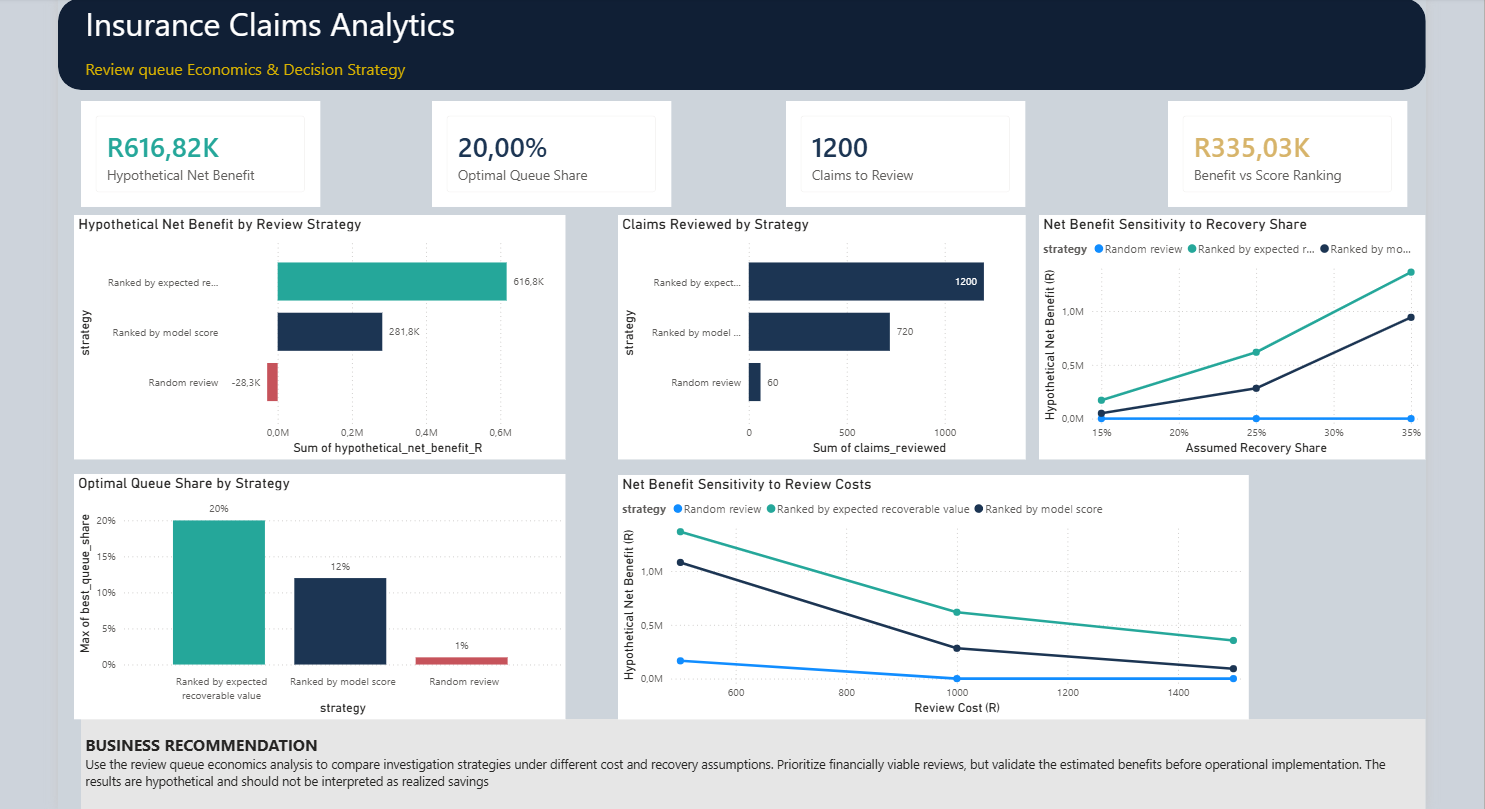

Layout of this report page (visuals, bound fields, positions):
{"tool":"powerbi","page":{"name":"Duplicate of Model Performance & Validation.","canvas":[1600,950],"ordinal":3},"visuals":[{"type":"group","id":"g1","title":"Group 1","box":[26.7,843.8,1573.3,105.8],"z":0},{"type":"shape","box":[26.7,843.8,1573.3,105.8],"z":0,"group":"g1"},{"type":"group","id":"g2","title":"Group 2","box":[0,0,1600.5,108.2],"z":1000},{"type":"shape","box":[0,0,1600.5,107.6],"z":1000,"group":"g2"},{"type":"textbox","box":[26.9,0,531.2,62],"z":2000,"group":"g2"},{"type":"cardVisual","fields":{"Data":["review_economics.Hypothetical Net Benefit"]},"box":[26.7,120.4,279.6,124],"z":2000},{"type":"textbox","box":[26.7,65.7,519.1,42.6],"z":3000,"group":"g2"},{"type":"cardVisual","fields":{"Data":["review_economics.Optimal Queue Share"]},"box":[437.7,120.4,279.6,124],"z":3000},{"type":"cardVisual","fields":{"Data":["review_economics.Claims to Review"]},"box":[852.3,120.4,279.6,124],"z":4000},{"type":"cardVisual","fields":{"Data":["review_economics.Benefit vs Score Ranking"]},"box":[1298.5,120.4,279.6,124],"z":5000},{"type":"clusteredBarChart","title":"Hypothetical Net Benefit by Review Strategy","fields":{"Category":["review_economics.strategy"],"Y":["Sum(review_economics.hypothetical_net_benefit_R)"]},"box":[18.2,254.1,575.1,285.7],"z":6000},{"type":"clusteredColumnChart","title":"Optimal Queue Share by Strategy","fields":{"Category":["review_economics.strategy"],"Y":["Max(review_economics.best_queue_share)"]},"box":[18.2,556.8,575.1,286.9],"z":7000},{"type":"clusteredBarChart","title":"Claims Reviewed by Strategy","fields":{"Category":["review_economics.strategy"],"Y":["Sum(review_economics.claims_reviewed)"]},"box":[655.3,254.1,476.6,285.7],"z":8000},{"type":"lineChart","title":"Net Benefit Sensitivity to Review Costs","fields":{"Category":["review_economics_sensitivity.cost_per_review_R"],"Y":["Sum(review_economics_sensitivity.hypothetical_net_benefit_R)"],"Series":["review_economics.strategy"]},"box":[655.3,558.1,738,285.7],"z":9000},{"type":"lineChart","title":"Net Benefit Sensitivity to Recovery Share","fields":{"Category":["review_economics_sensitivity.recovery_share"],"Y":["Sum(review_economics_sensitivity.hypothetical_net_benefit_R)"],"Series":["review_economics_sensitivity.strategy"]},"box":[1147.7,254.1,452.3,285.7],"z":10000},{"type":"textbox","box":[26.7,857.2,1573.3,79],"z":19000,"group":"g1"}]}

Visuals, with their boxes on the page's 1600x950 design canvas (x1, y1, x2, y2). These are canvas units, not pixel positions in the 1485x809 screenshot, which may show the page scaled, cropped or inside an application window:
"Group 1" group: 27 844 1600 950
shape: 27 844 1600 950
"Group 2" group: 0 0 1600 108
shape: 0 0 1600 108
textbox: 27 0 558 62
cardVisual - review_economics.Hypothetical Net Benefit: 27 120 306 244
textbox: 27 66 546 108
cardVisual - review_economics.Optimal Queue Share: 438 120 717 244
cardVisual - review_economics.Claims to Review: 852 120 1132 244
cardVisual - review_economics.Benefit vs Score Ranking: 1298 120 1578 244
"Hypothetical Net Benefit by Review Strategy" clusteredBarChart: 18 254 593 540
"Optimal Queue Share by Strategy" clusteredColumnChart: 18 557 593 844
"Claims Reviewed by Strategy" clusteredBarChart: 655 254 1132 540
"Net Benefit Sensitivity to Review Costs" lineChart: 655 558 1393 844
"Net Benefit Sensitivity to Recovery Share" lineChart: 1148 254 1600 540
textbox: 27 857 1600 936
